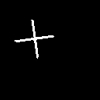single_crochet: (15, 20, 53, 57)
